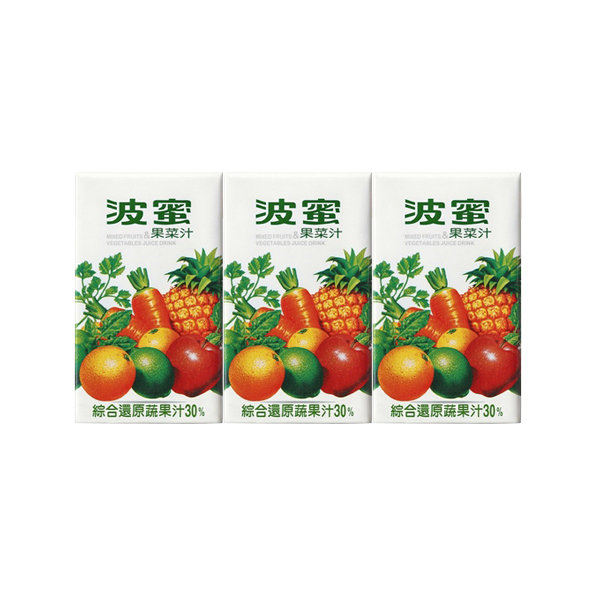vegetables juice: (374, 156, 529, 427), (217, 157, 372, 428), (72, 161, 227, 432)
